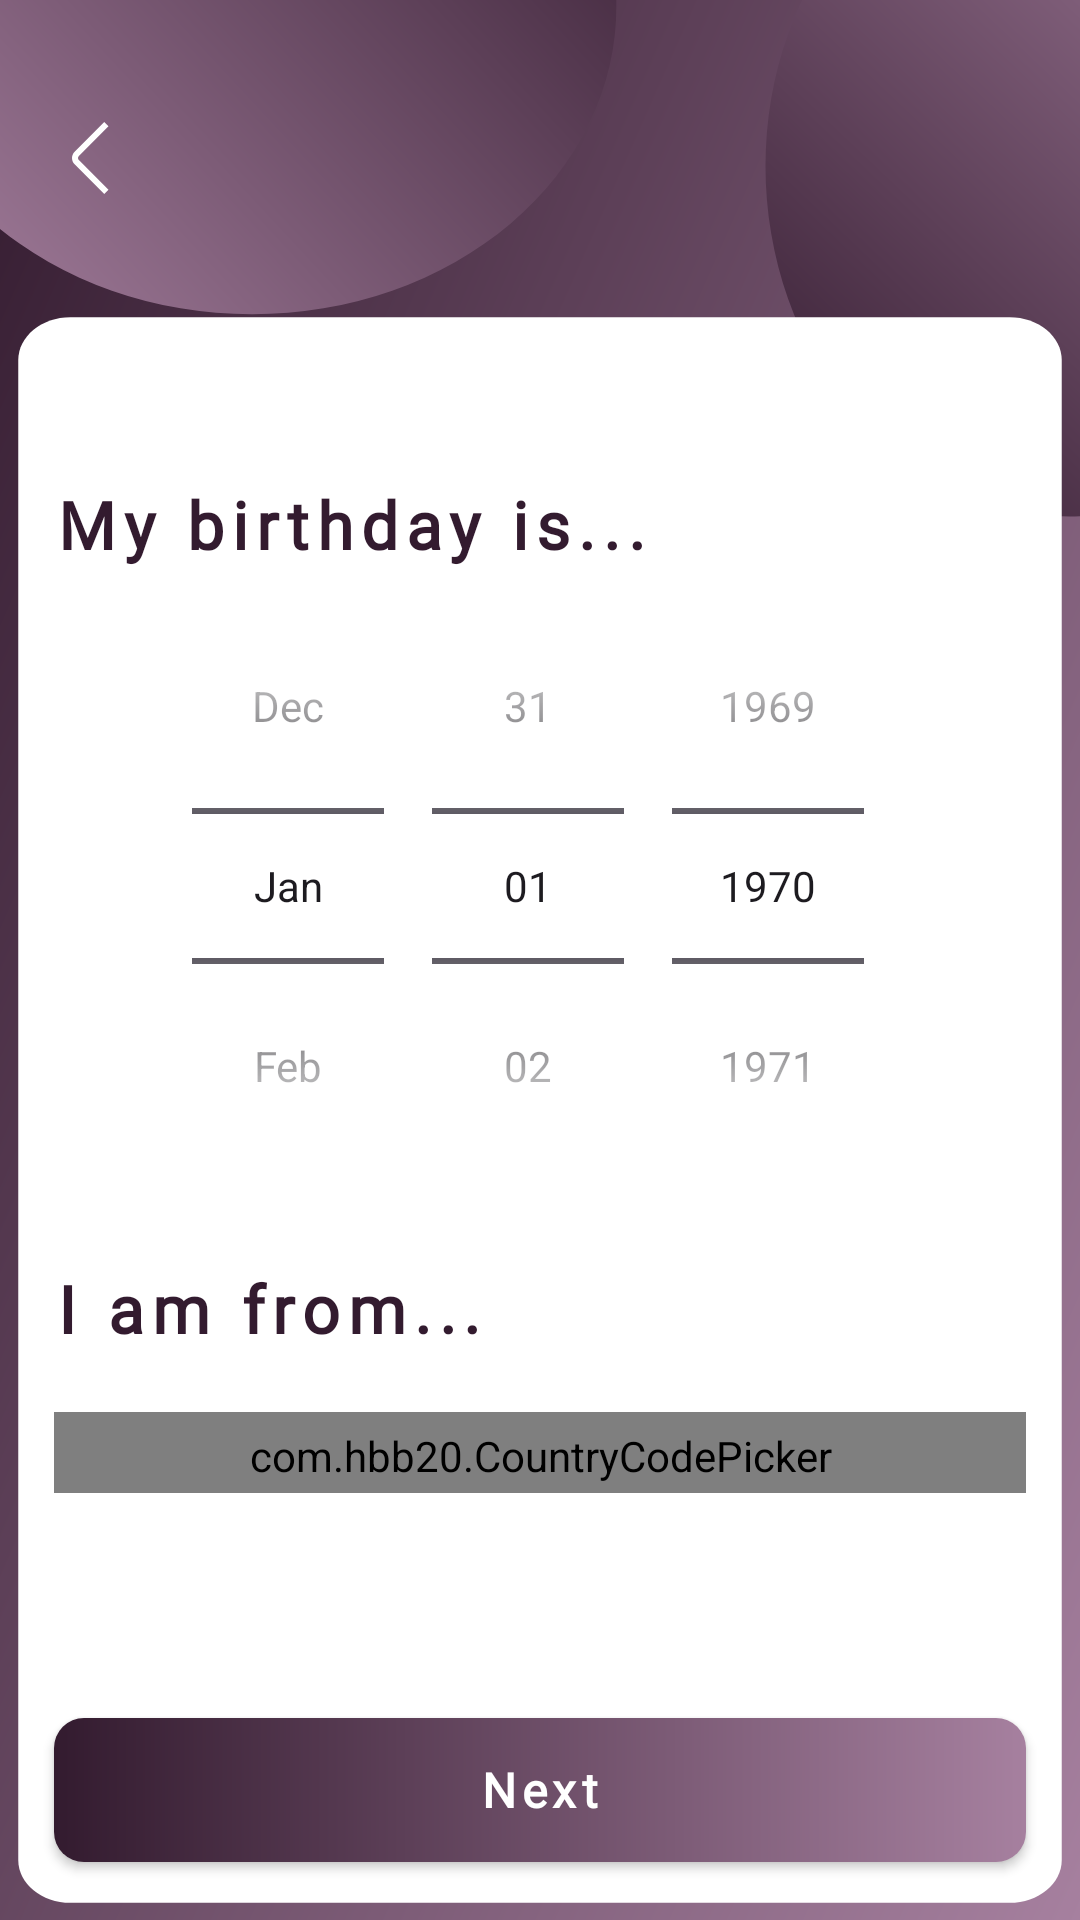

Screen size 1080x1920. Icon name, then its box in pixels as (x1, y1, x2, y2):
back arrow: (72, 122, 109, 194)
